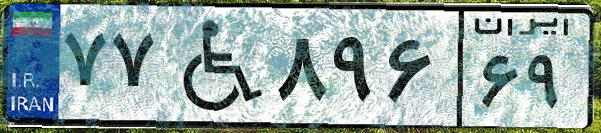6: (385, 28, 445, 110), (475, 38, 525, 113)
7: (57, 26, 110, 100), (110, 28, 158, 98)
8: (270, 28, 330, 110)
9: (330, 28, 385, 110), (525, 38, 570, 115)
ژ (معلولین و جانبازان): (158, 12, 270, 120)
